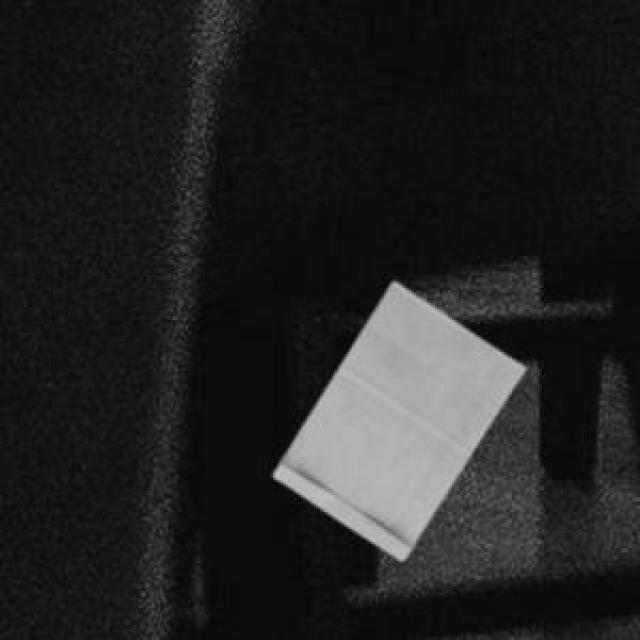paper: (271, 280, 521, 555)
